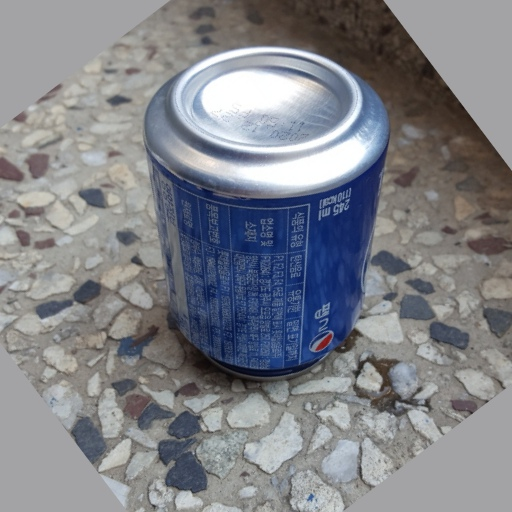Metal_0: (143, 45, 392, 379)
